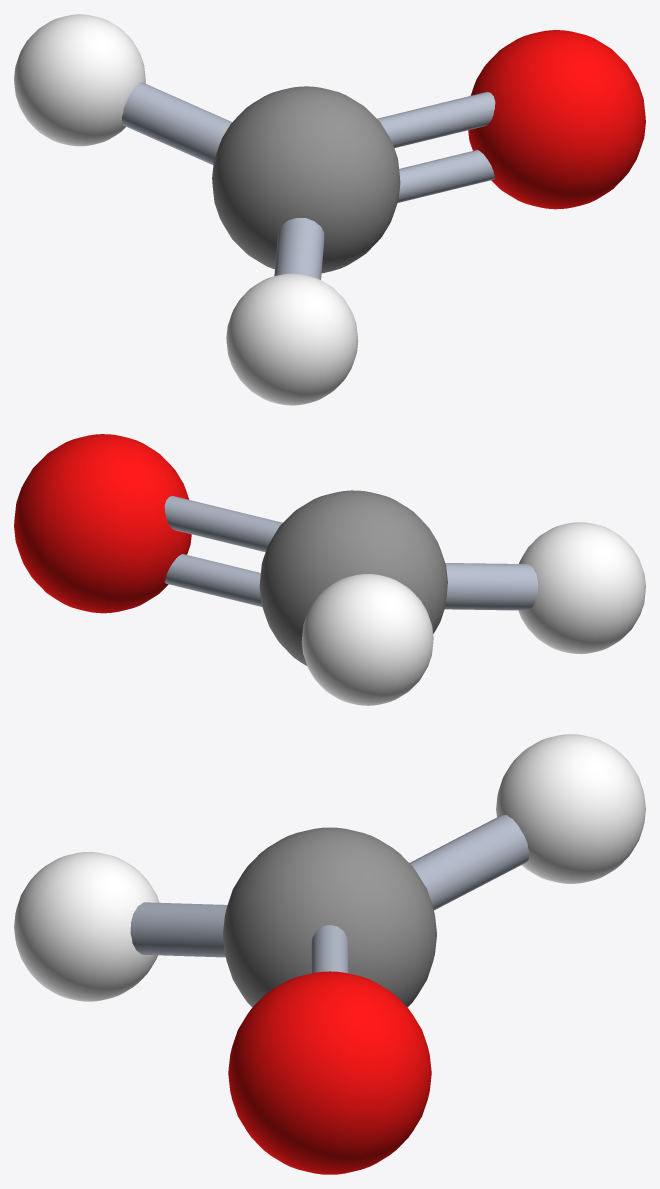
The model's file is formaldehyde.glb.
The picture shows the model from 3 angles, top to bottom: view 1: azimuth 30°, elevation 25°; view 2: azimuth 150°, elevation 25°; view 3: azimuth 270°, elevation 25°; orthographic projection. The views are drawn at different scales.
Parts seen in each view (by area): view 1: H (×2), C, O, bond (×4); view 2: H (×2), O, C, bond (×3); view 3: H (×2), O, C, bond (×3).
Part boxes in pixels (<box>): H (×2): <box>14,14,358,405</box>; C: <box>212,86,400,273</box>; O: <box>468,30,645,209</box>; bond (×4): <box>122,82,495,279</box>; H (×2): <box>301,522,645,705</box>; O: <box>14,434,191,613</box>; C: <box>259,490,447,666</box>; bond (×3): <box>164,496,537,610</box>; H (×2): <box>14,734,645,1001</box>; O: <box>228,971,431,1174</box>; C: <box>223,827,436,1007</box>; bond (×3): <box>130,815,529,973</box>.
Bounding box in the file's own units: 0.22 × 0.093 × 0.21.
